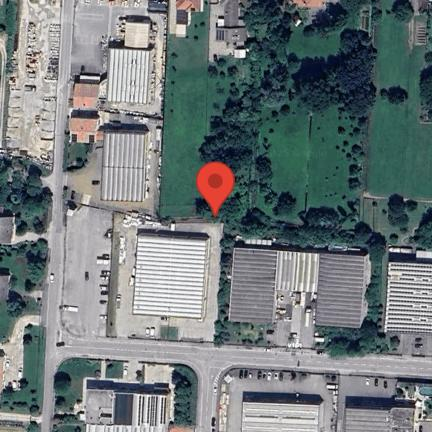area_open: (59, 143, 138, 352), (0, 0, 65, 170), (70, 0, 124, 75), (267, 294, 324, 356), (240, 363, 340, 398), (0, 322, 35, 397), (142, 319, 220, 349), (343, 368, 415, 400), (217, 382, 241, 432), (388, 336, 432, 358)
built: (133, 230, 211, 320), (228, 247, 281, 324), (82, 386, 170, 432), (315, 255, 367, 330), (384, 262, 432, 331), (101, 132, 147, 201), (244, 397, 321, 432), (346, 398, 421, 432), (106, 48, 153, 102), (210, 2, 249, 59), (278, 252, 320, 295), (122, 19, 154, 50), (73, 75, 101, 110), (67, 115, 99, 144), (0, 207, 15, 246), (168, 14, 190, 36), (176, 0, 203, 13), (0, 269, 10, 303)
vegetation_high: (205, 0, 373, 345), (321, 236, 405, 361), (0, 155, 51, 236)
vegetation_low: (258, 1, 432, 231), (156, 17, 213, 220), (0, 238, 51, 350), (1, 330, 44, 418), (321, 400, 344, 432)
